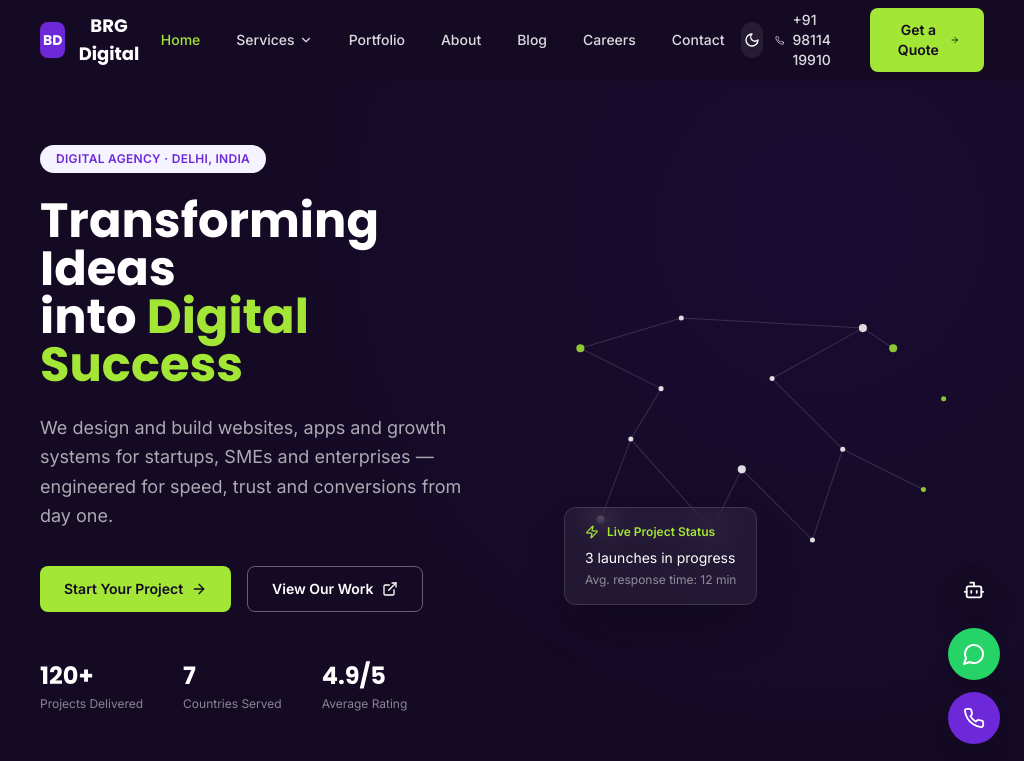
it: Why an India-based agency section › appears on the About page addressing international-client objections
Click the button "About". click: (461, 40)
box: [425,22,497,58]
(page scrolled)
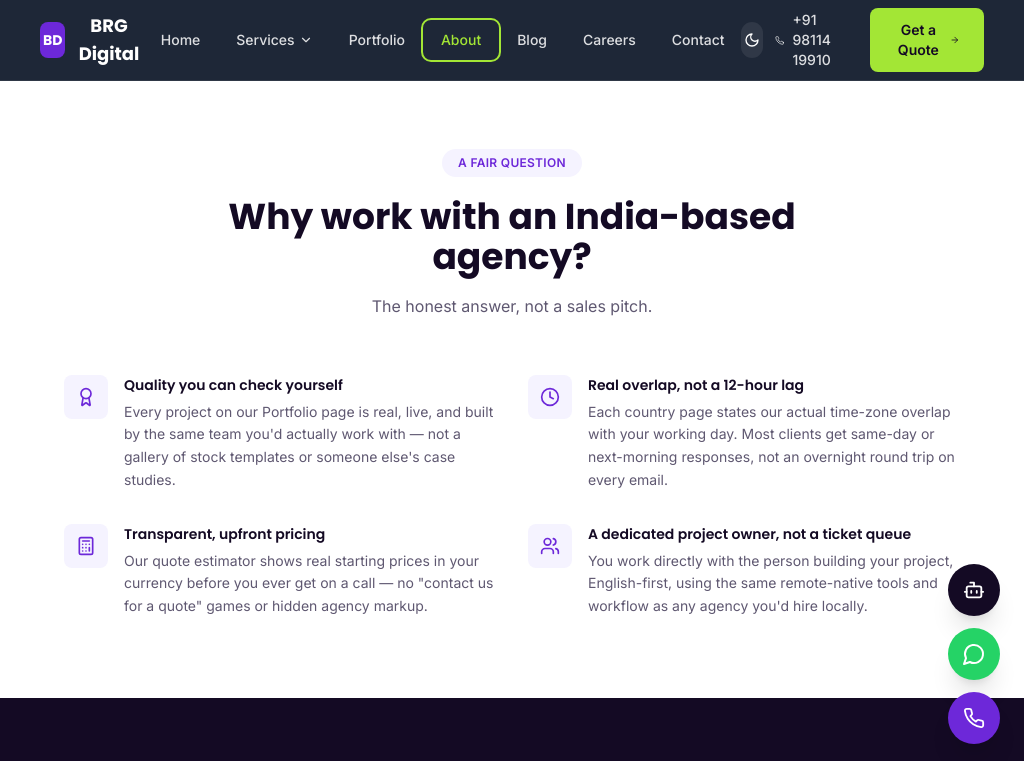
Now the heading "Why work with an India-based agency?" is shown, box [228,190,796,282]
Now the text "Quality you can check yourself" is shown, box [124,374,343,394]
